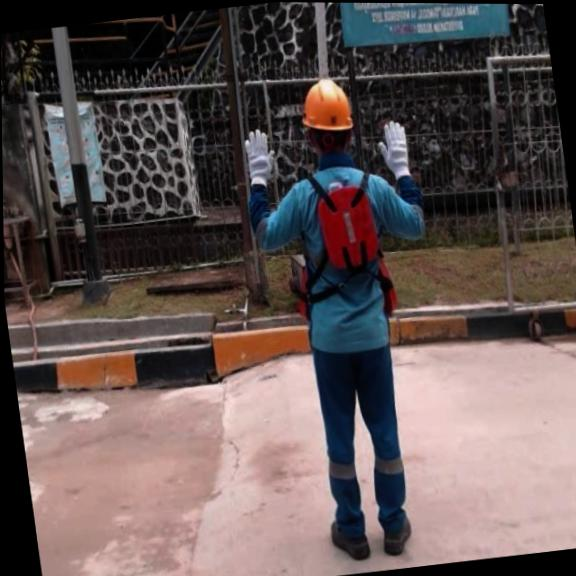safety_vest: (311, 179, 383, 278)
